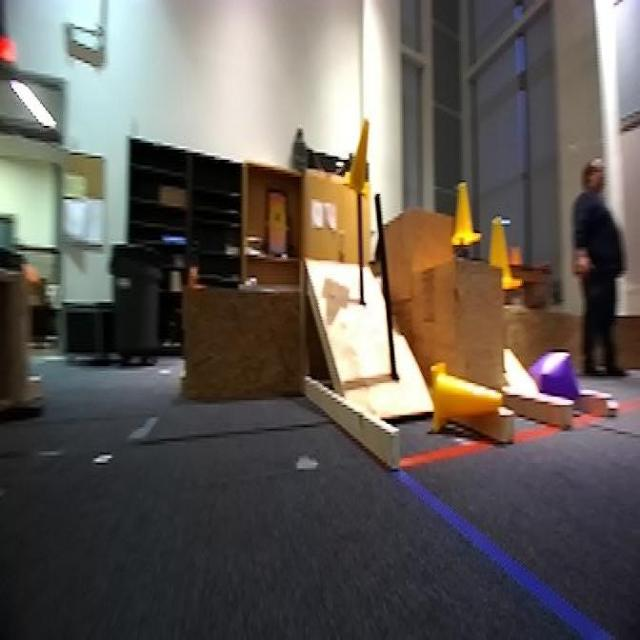frc_cone: (429, 364, 501, 444), (484, 214, 522, 290), (339, 119, 373, 203), (449, 184, 482, 252)
frc_cube: (531, 351, 579, 398)
